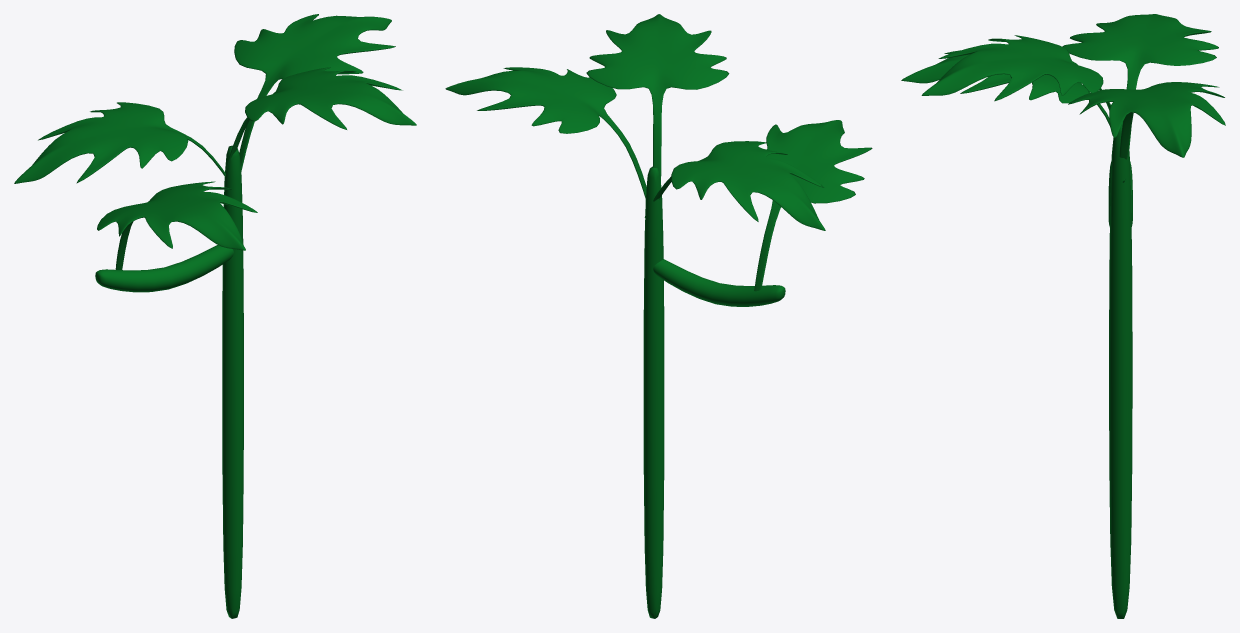
Rendered from leavesplant.fbx.
3 renders of one model, left to right at view 1: azimuth 30°, elevation 25°; view 2: azimuth 150°, elevation 25°; view 3: azimuth 270°, elevation 25°, orthographic. The views are drawn at different scales.
Parts seen in each view (by area): view 1: stem1, plantleaves1, plantleaves3, plantleaves2, plantleaves4, stem; view 2: stem1, plantleaves2, plantleaves1, plantleaves3, plantleaves4, stem; view 3: stem1, plantleaves2, plantleaves3, plantleaves1, plantleaves4.
Part boxes in pixels (box(x1,y1,x2,y2)): stem1: box(222, 145, 243, 618); plantleaves1: box(234, 14, 395, 171); plantleaves3: box(14, 102, 225, 183); plantleaves2: box(225, 67, 416, 173); plantleaves4: box(97, 181, 257, 269); stem: box(95, 245, 233, 292); stem1: box(643, 166, 664, 618); plantleaves2: box(586, 14, 729, 199); plantleaves1: box(445, 67, 646, 198); plantleaves3: box(644, 141, 825, 230); plantleaves4: box(754, 120, 872, 291); stem: box(653, 259, 785, 306); stem1: box(1109, 122, 1132, 618); plantleaves2: box(921, 35, 1110, 110); plantleaves3: box(1062, 14, 1218, 182); plantleaves1: box(1068, 82, 1225, 159); plantleaves4: box(901, 50, 1110, 126).
Size of the model in its own units: 81.96 by 112 by 56.45.
